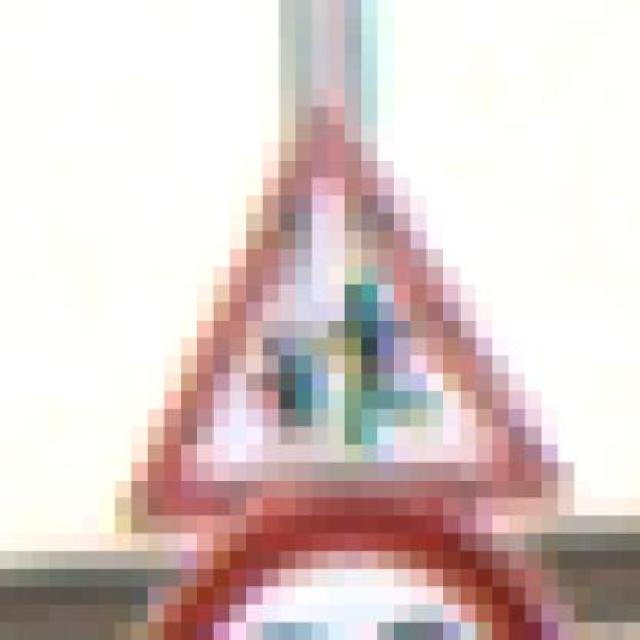Beware of children: (115, 89, 607, 552)
